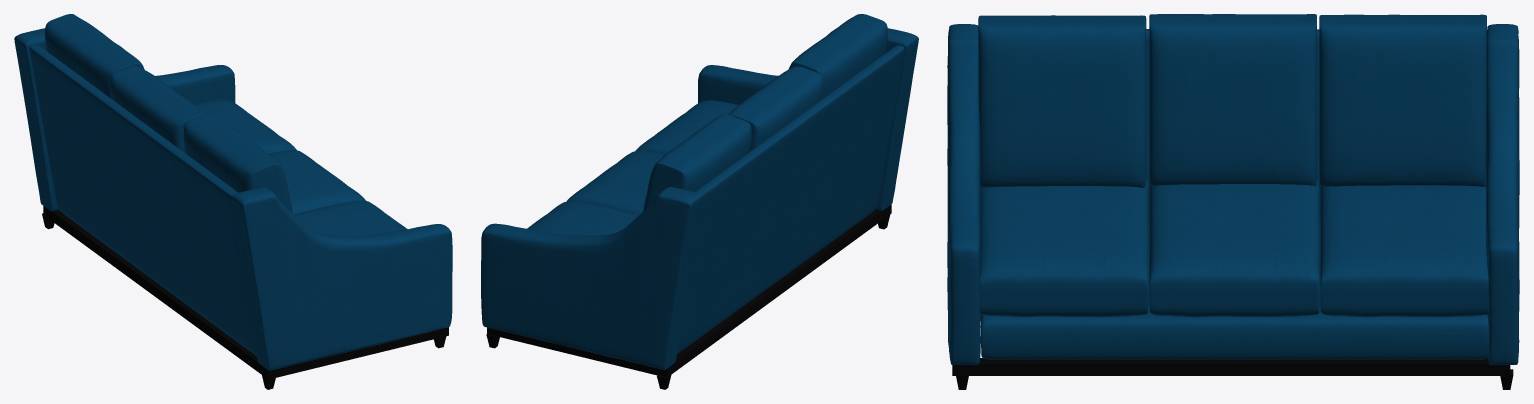
The model's file is divanblue.glb.
3 renders of one model, left to right at view 1: azimuth 30°, elevation 25°; view 2: azimuth 150°, elevation 25°; view 3: azimuth 270°, elevation 25°, orthographic. The views are drawn at different scales.
Parts seen in each view (by area): view 1: Box022, Line006, Line005, Box026, Box025, Box023, Box024, Box019, Box021, Box020; view 2: Box022, Line005, Line006, Box023, Box026, Box025, Box024, Box019, Box020, Box021; view 3: Box023, Box025, Box024, Box019, Box018, Box021, Box020, Line006, Line005, Box026, Box022.
Part boxes in pixels (left/top/right/bottom): Box022: left=29, top=45, right=256, bottom=355; Line006: left=231, top=187, right=452, bottom=370; Line005: left=14, top=28, right=235, bottom=211; Box026: left=43, top=206, right=448, bottom=379; Box025: left=183, top=114, right=292, bottom=213; Box023: left=44, top=14, right=144, bottom=98; Box024: left=110, top=66, right=205, bottom=152; Box019: left=269, top=150, right=365, bottom=214; Box021: left=293, top=200, right=407, bottom=235; Box020: left=194, top=99, right=296, bottom=153; Box022: left=677, top=45, right=904, bottom=354; Line005: left=481, top=187, right=701, bottom=369; Line006: left=698, top=28, right=918, bottom=210; Box023: left=643, top=114, right=751, bottom=211; Box026: left=487, top=204, right=891, bottom=377; Box025: left=789, top=14, right=887, bottom=98; Box024: left=728, top=66, right=823, bottom=150; Box019: left=566, top=150, right=664, bottom=214; Box020: left=527, top=201, right=638, bottom=235; Box021: left=635, top=100, right=738, bottom=154; Box023: left=1319, top=14, right=1486, bottom=187; Box025: left=978, top=15, right=1146, bottom=187; Box024: left=1149, top=14, right=1316, bottom=186; Box019: left=1149, top=180, right=1319, bottom=317; Box018: left=981, top=221, right=1488, bottom=359; Box021: left=980, top=180, right=1148, bottom=317; Box020: left=1320, top=185, right=1488, bottom=317; Line006: left=947, top=24, right=980, bottom=364; Line005: left=1485, top=24, right=1519, bottom=364; Box026: left=952, top=358, right=1510, bottom=375; Box022: left=1146, top=29, right=1320, bottom=220.
Size of the model in its own units: 0.766 by 0.7485 by 1.45.
2 materials, 1 textured.
